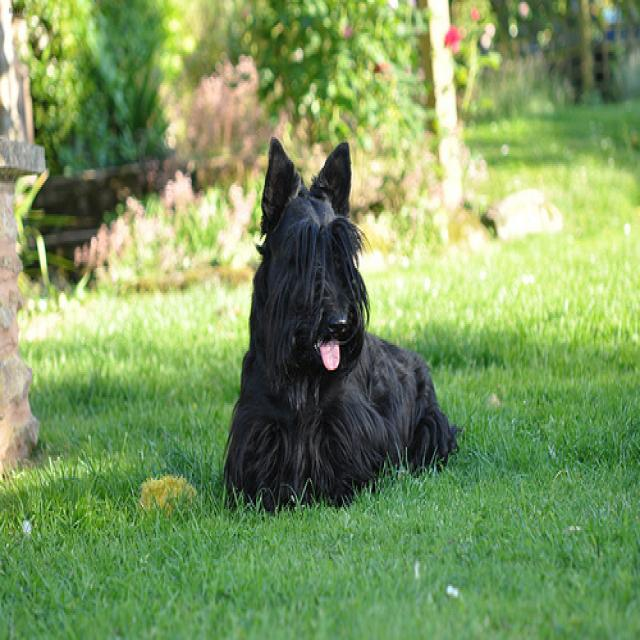dog-scottish_terrier: (215, 129, 471, 526)
